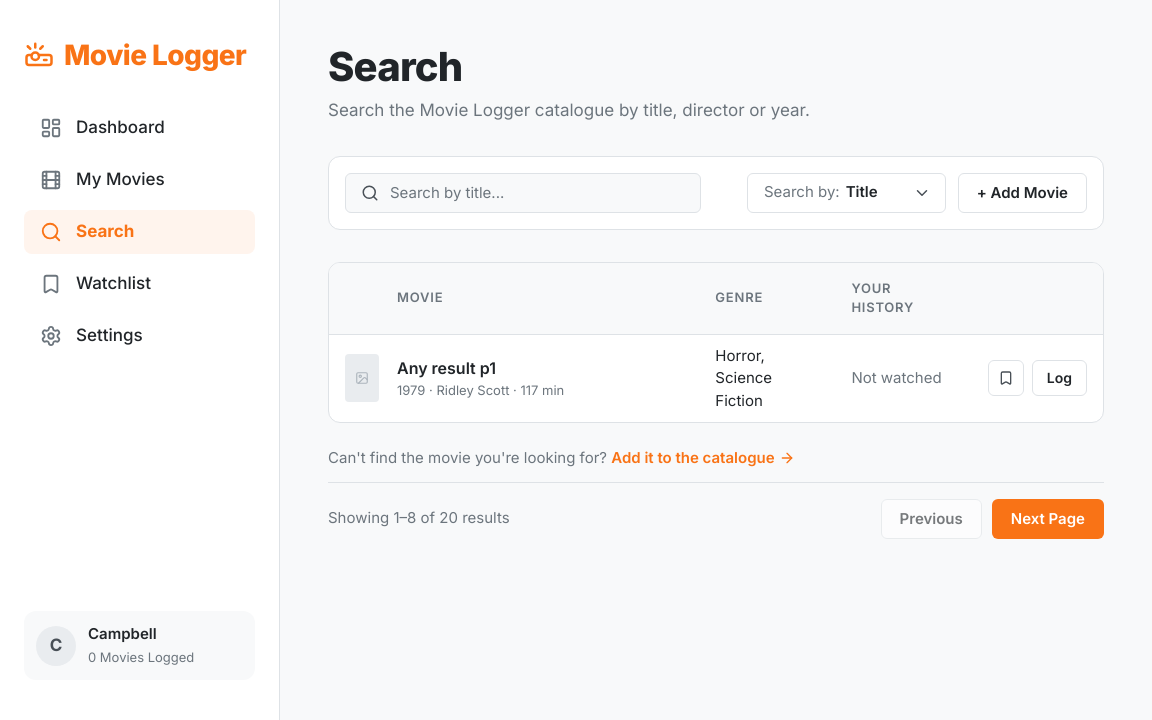
Test case: Search page › debounces typing into a single search request
expect the link "Any result p1" is shown: met, box [397,358,496,378]
Type "alien" into the search field named "Search the catalogue" at (523, 192), box [345,172,701,212]
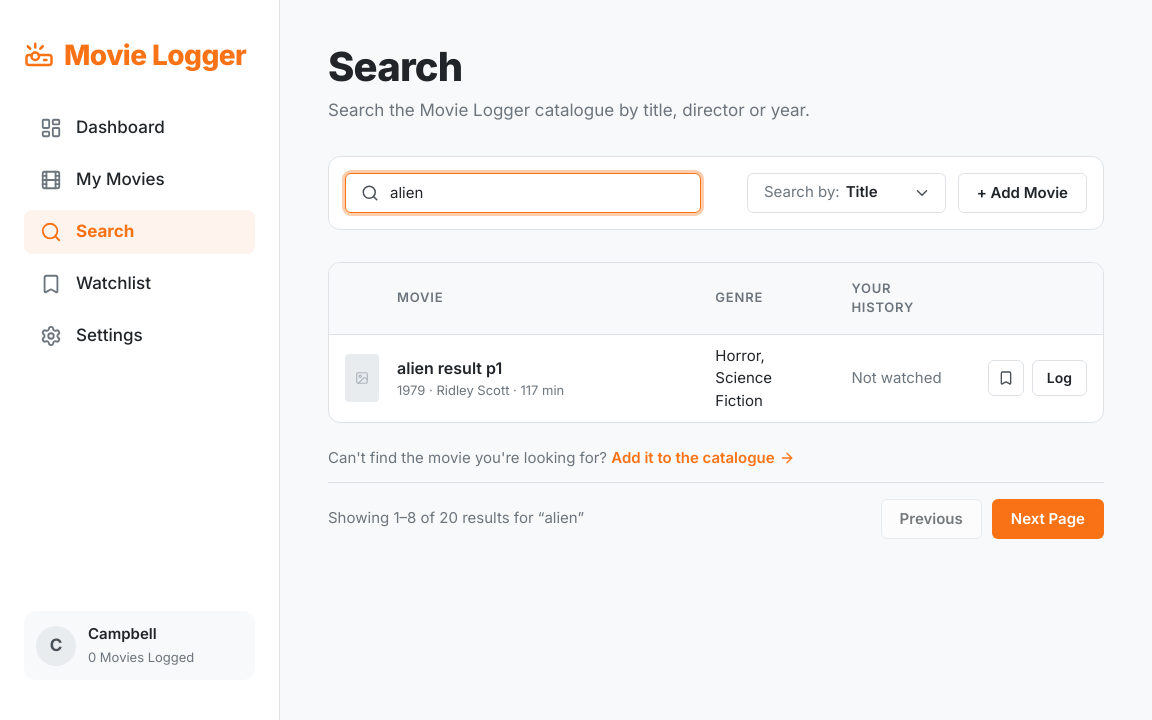
expect the link "alien result p1" is shown: met, box [397,358,502,378]
